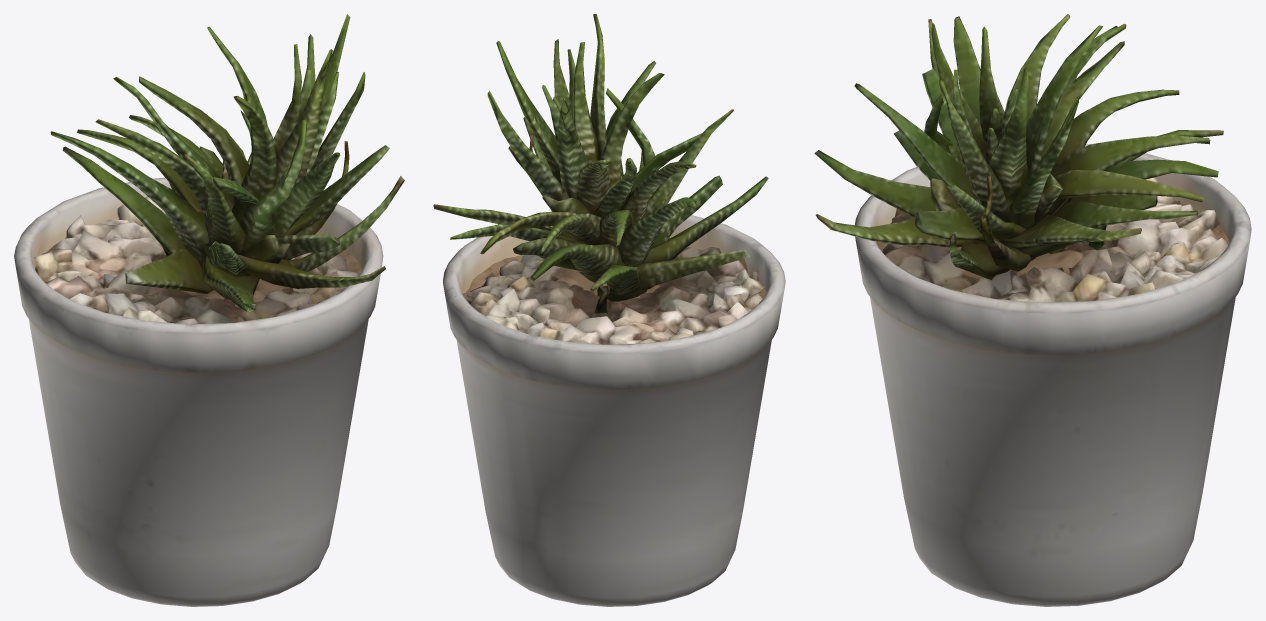
File: desk-plant.glb
The picture shows the model from 3 angles, left to right: view 1: azimuth 30°, elevation 25°; view 2: azimuth 150°, elevation 25°; view 3: azimuth 270°, elevation 25°; orthographic projection. The views are drawn at different scales.
Parts seen in each view (by area): view 1: desk-plant; view 2: desk-plant; view 3: desk-plant.
Part boxes in pixels (x1,y1,x2,y2): desk-plant: [14, 14, 404, 606]; desk-plant: [433, 14, 785, 606]; desk-plant: [814, 14, 1251, 606].
Size of the model in its own units: 0.1382 by 0.22 by 0.1521.
1 material, 1 textured.
